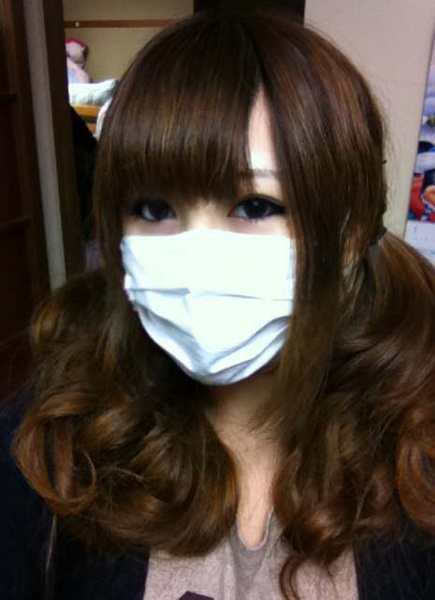face_mask: (117, 87, 302, 390)
